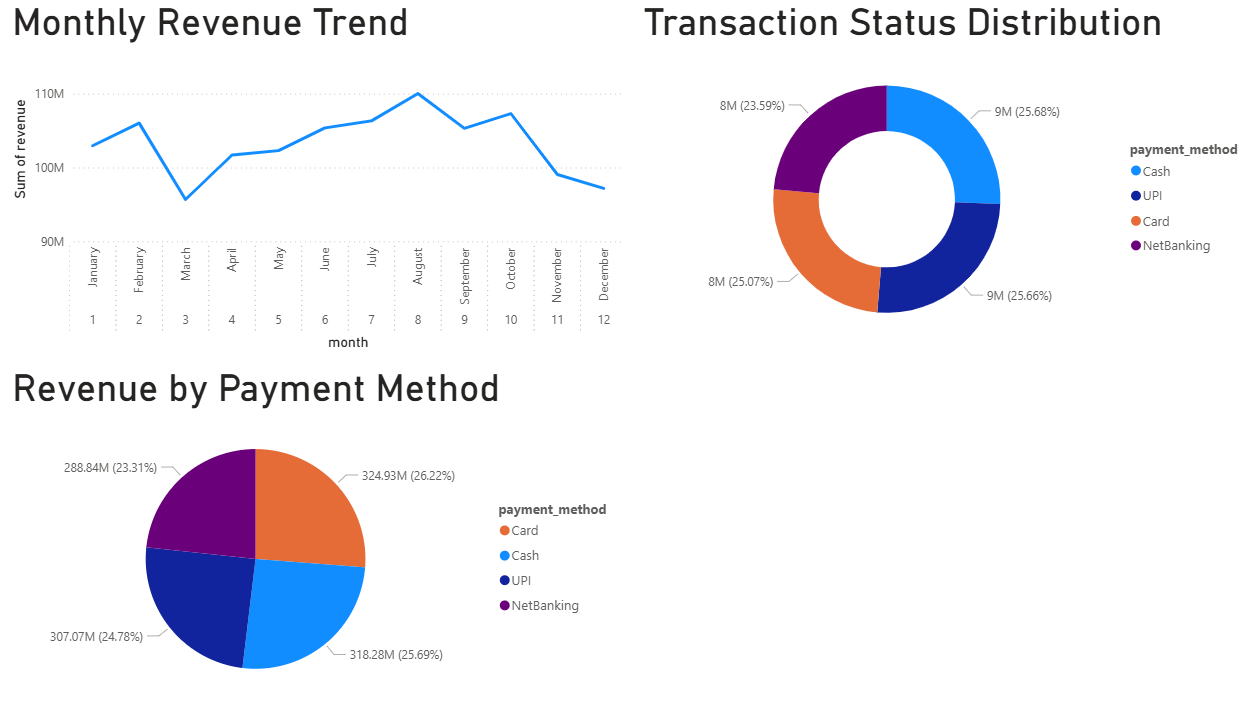

This screenshot's page, from the dashboard's own definition file:
{"tool":"powerbi","page":{"name":"Sales Trends","canvas":[1280,720],"ordinal":2},"visuals":[{"type":"lineChart","title":"Monthly Revenue Trend","fields":{"Y":["Sum(final_cleaned_data.revenue)"],"Category":["final_cleaned_data.Month Number","final_cleaned_data.month"]},"box":[9.7,0,629.6,360.7],"z":0},{"type":"pieChart","title":"Revenue by Payment Method","fields":{"Category":["final_cleaned_data.payment_method"],"Y":["Sum(final_cleaned_data.revenue)"]},"box":[10,371,630,349],"z":1},{"type":"donutChart","title":"Transaction Status Distribution","fields":{"Category":["final_cleaned_data.payment_method"],"Y":["Sum(final_cleaned_data.transaction_id)"]},"box":[650,0,630,361],"z":2}]}

Visuals, with their boxes in screenshot pixels (x1, y1, x2, y2), scaled from the page's 1280x720 canvas onto the 1255x702 screenshot:
"Monthly Revenue Trend" lineChart: [x1=10, y1=0, x2=627, y2=352]
"Revenue by Payment Method" pieChart: [x1=10, y1=362, x2=628, y2=701]
"Transaction Status Distribution" donutChart: [x1=637, y1=0, x2=1254, y2=352]
